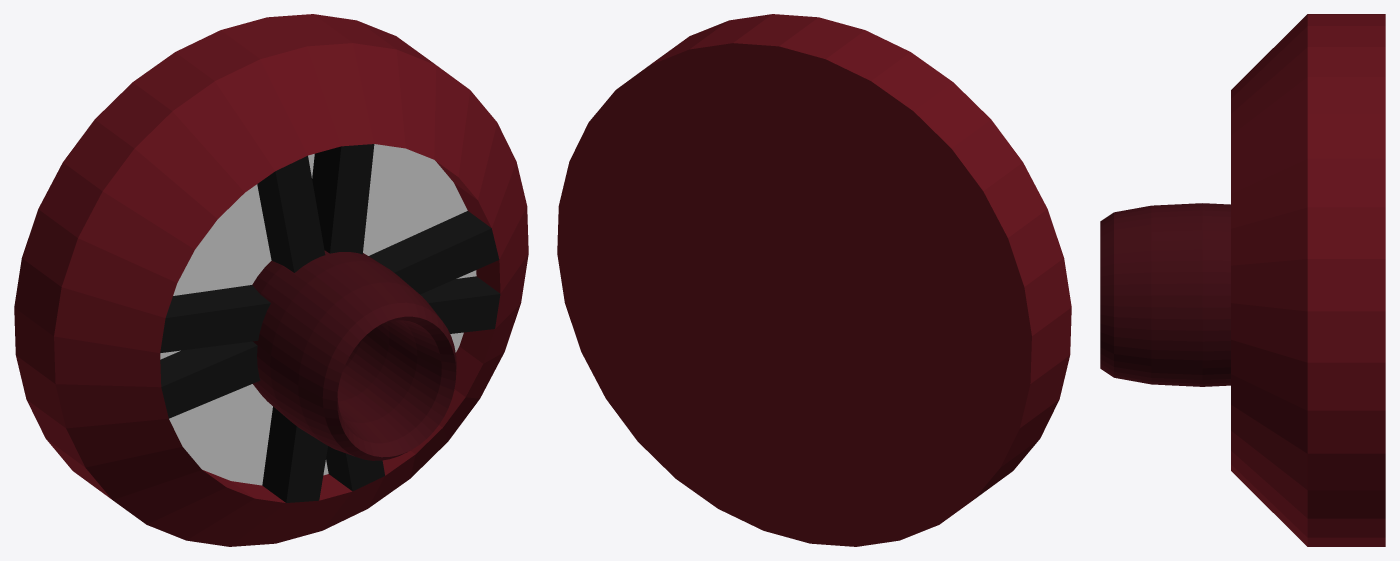
File: LaserHolder.fbx
3 renders of one model, left to right at view 1: azimuth 30°, elevation 25°; view 2: azimuth 150°, elevation 25°; view 3: azimuth 270°, elevation 25°, orthographic.
Visible parts, largest first — view 1: Torus; view 2: Torus; view 3: Torus.
Part boxes in pixels (x1,y1,x2,y2): Torus: [14, 14, 528, 546]; Torus: [557, 14, 1071, 546]; Torus: [1100, 14, 1385, 546].
Size of the model in its own units: 163 by 161 by 86.41.
